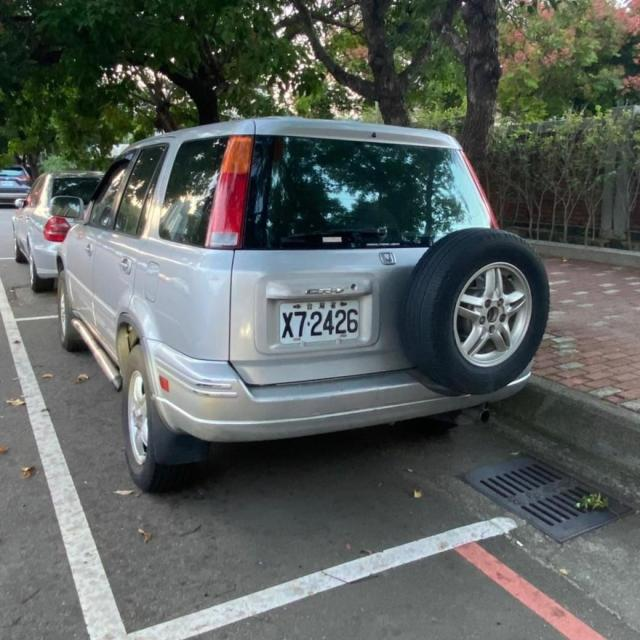W: (272, 294, 367, 344)
